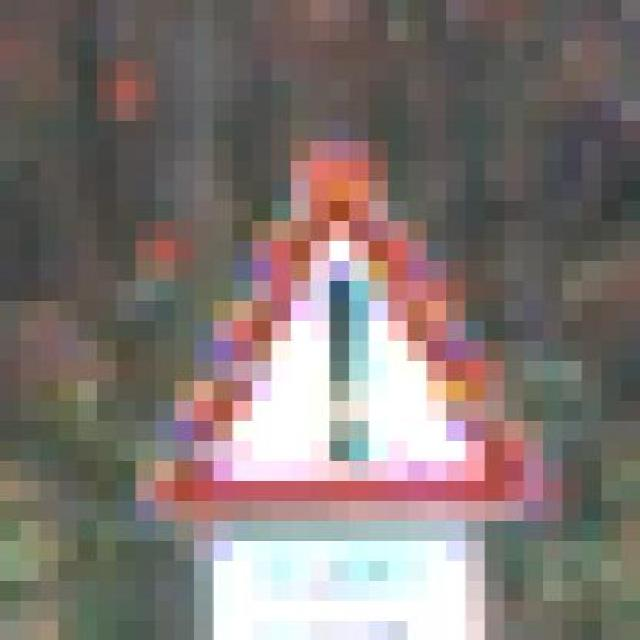Attention Please-: (58, 100, 582, 520)
